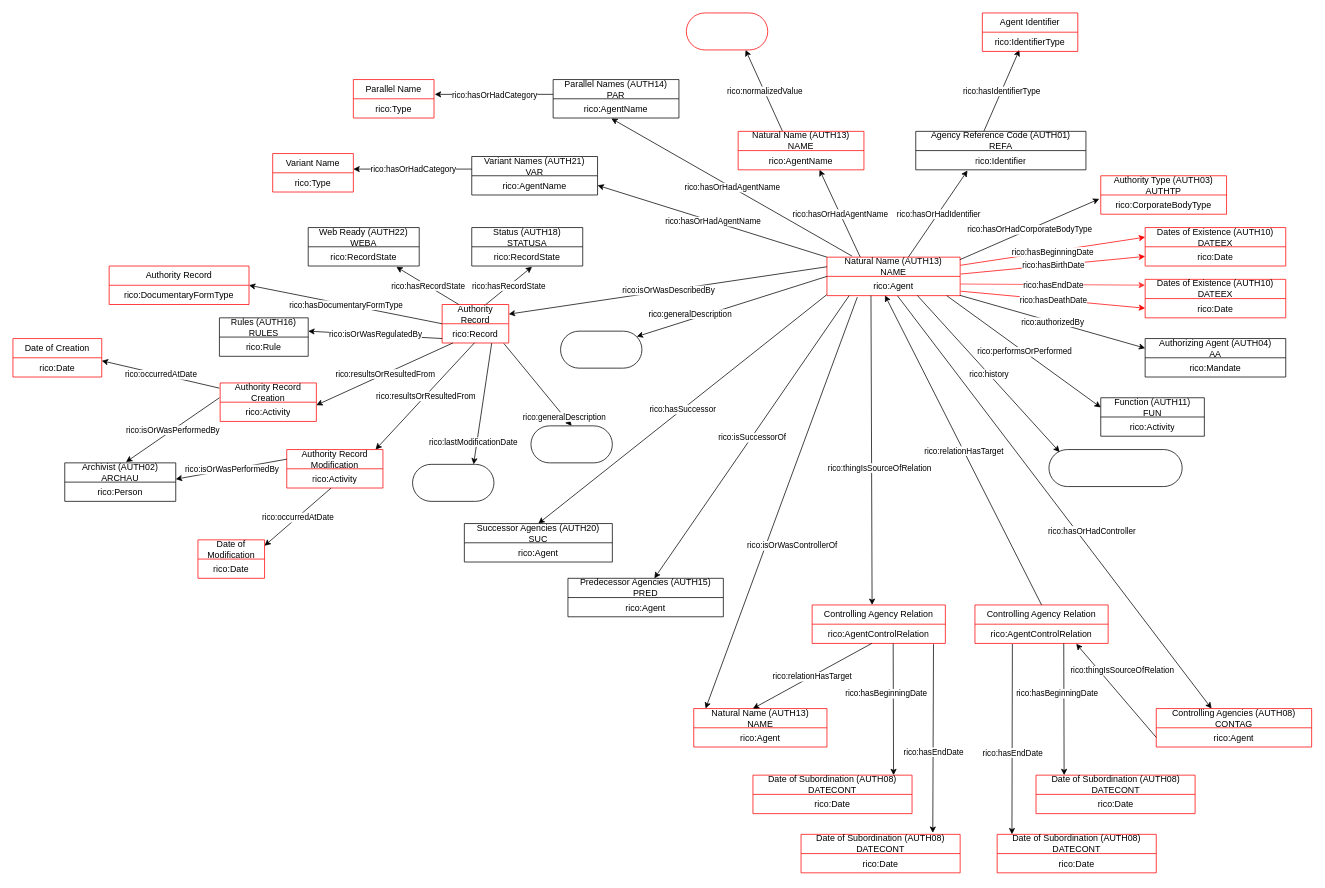
Image size: 1325x888. Some labels were removed from this diagram. The centre of each missing label's shape, as x and y in pixels:
"Biographical Sketch or Administrative History (AUTH05) ADM" belongs at (1115,468).
"Comment (AUTH07) CMTAU" belongs at (601,349).
"Date (AUTH09) MOD_DATE" belongs at (453,482).
"Heading (AUTH12) HEADING" belongs at (727,31).
"Source Note (AUTH17) SOURCE" belongs at (571,444).
